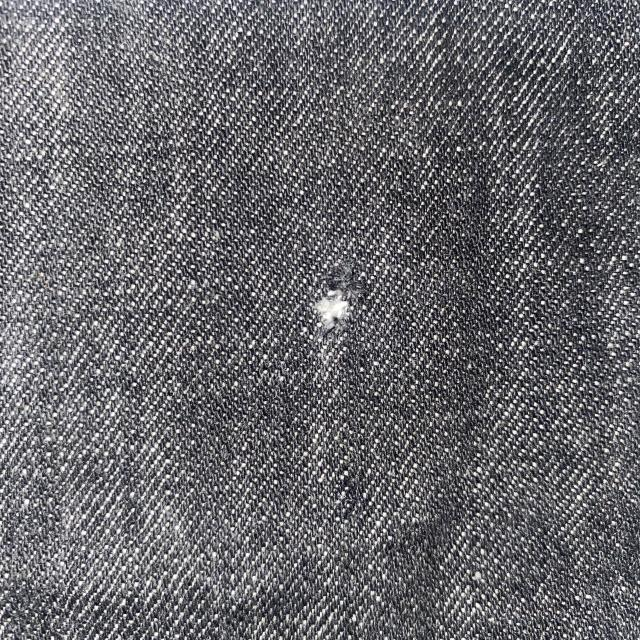Knot: (307, 278, 356, 329)
